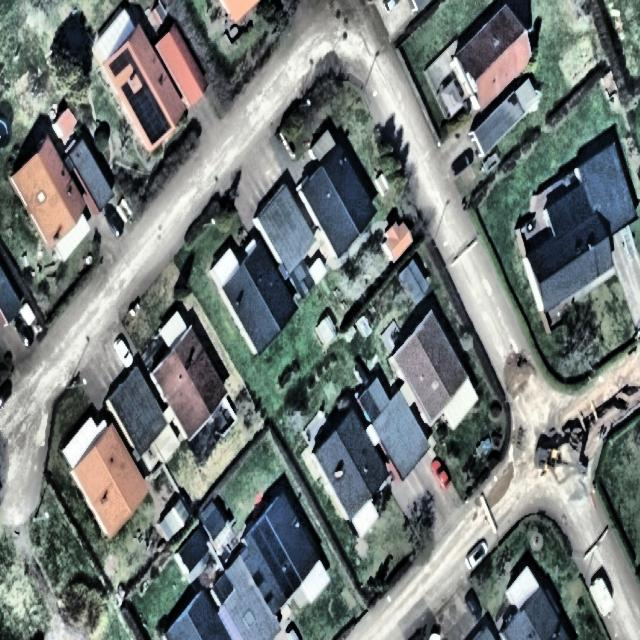roof_pv: (252, 513, 302, 595), (103, 42, 150, 104), (132, 86, 174, 147)
